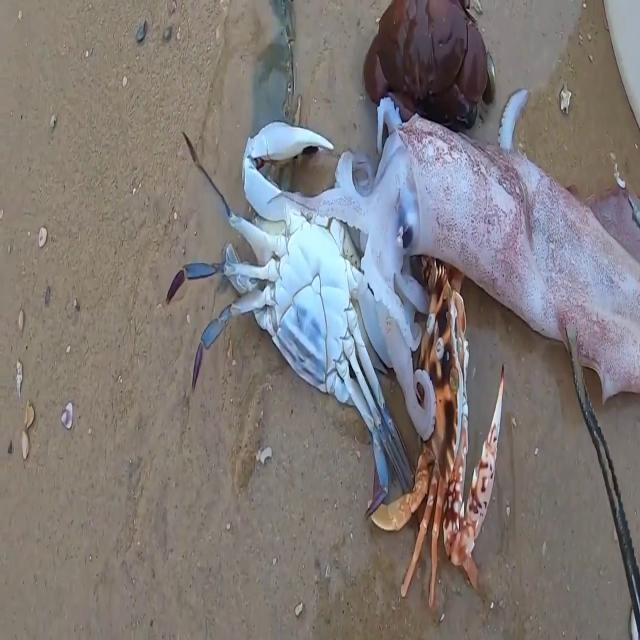SQUID: (358, 100, 640, 435)
